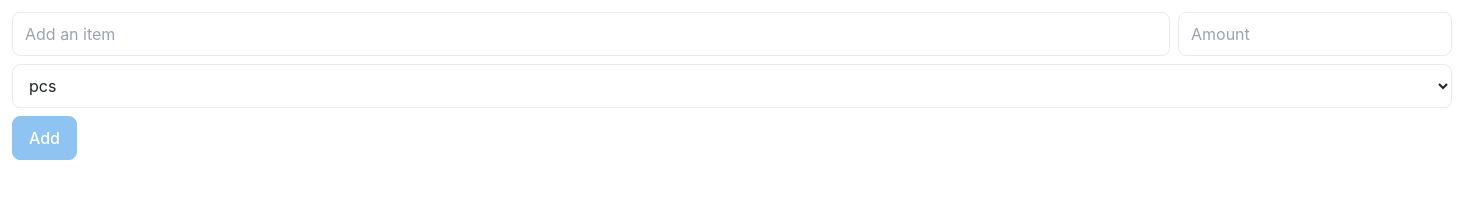
Test: QuickAddRow › amount validation (F4) › marks the amount invalid and disables Add for a zero or negative amount
Type "Bananas" into the field named "Item name".
click(591, 34); type("Bananas")  # box [12,12,1170,56]
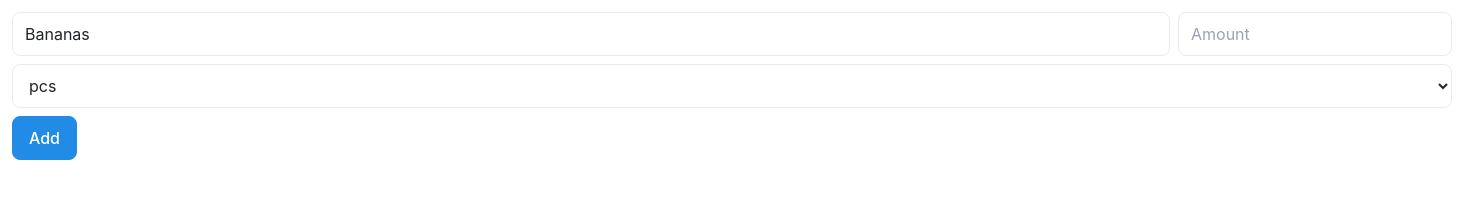
Type "0" into the number field labelled "Amount".
click(1315, 34); type("0")  # box [1178,12,1452,56]
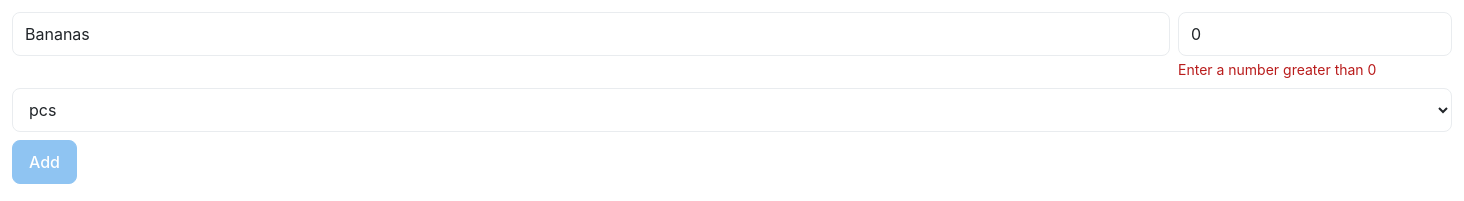
Check: the text "Enter a number greater than 0" is shown, box [1178,61,1376,78]
Check: the button "Add" is disabled, box [12,140,77,184]
